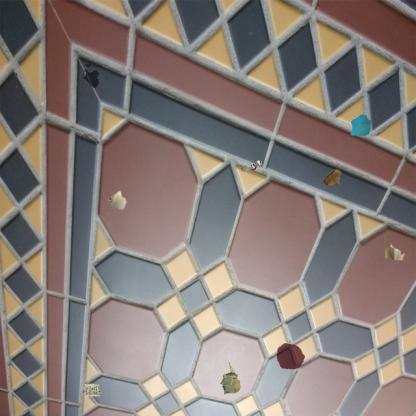dirty: (218, 361, 243, 396), (349, 112, 373, 138), (105, 188, 129, 212), (320, 167, 344, 188), (384, 242, 406, 262), (239, 159, 263, 174), (83, 382, 102, 399)
liquid: (275, 342, 306, 370), (82, 64, 98, 88)
